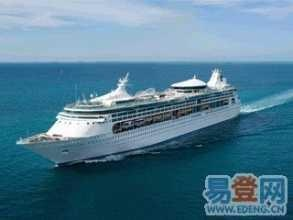youlun: (16, 68, 241, 164)
